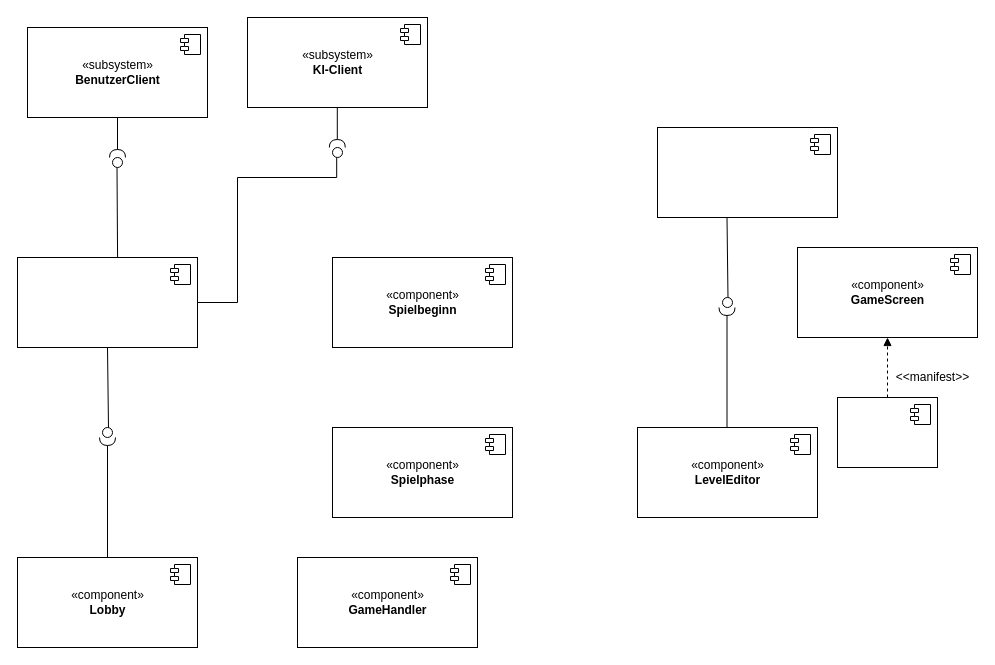
Image size: 995x665. Some labels were removed from this diagram. Each missing label, with the centre of its shape:
"«artifact» Grid" goes at (887,432).
"«Subsystem» IO" goes at (747,172).
"«Subsystem» Server" goes at (107,302).
